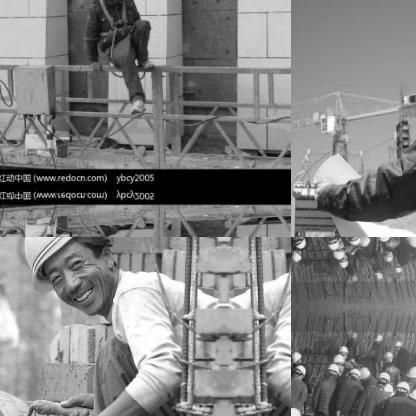Helmet: (9, 237, 125, 312), (291, 362, 309, 381), (343, 362, 359, 382), (96, 0, 125, 11), (394, 378, 410, 396), (291, 346, 305, 366), (291, 244, 305, 264), (322, 362, 338, 378), (372, 370, 388, 386), (356, 364, 370, 382), (403, 364, 415, 383), (329, 352, 345, 366), (329, 244, 345, 258), (291, 237, 309, 249), (321, 237, 339, 249), (335, 342, 349, 356), (380, 348, 394, 362), (335, 254, 349, 268), (343, 237, 360, 248), (380, 249, 394, 262), (406, 384, 415, 404), (356, 237, 371, 246), (291, 403, 301, 415), (403, 237, 415, 247), (394, 338, 402, 348), (394, 262, 402, 272), (371, 237, 389, 241)
